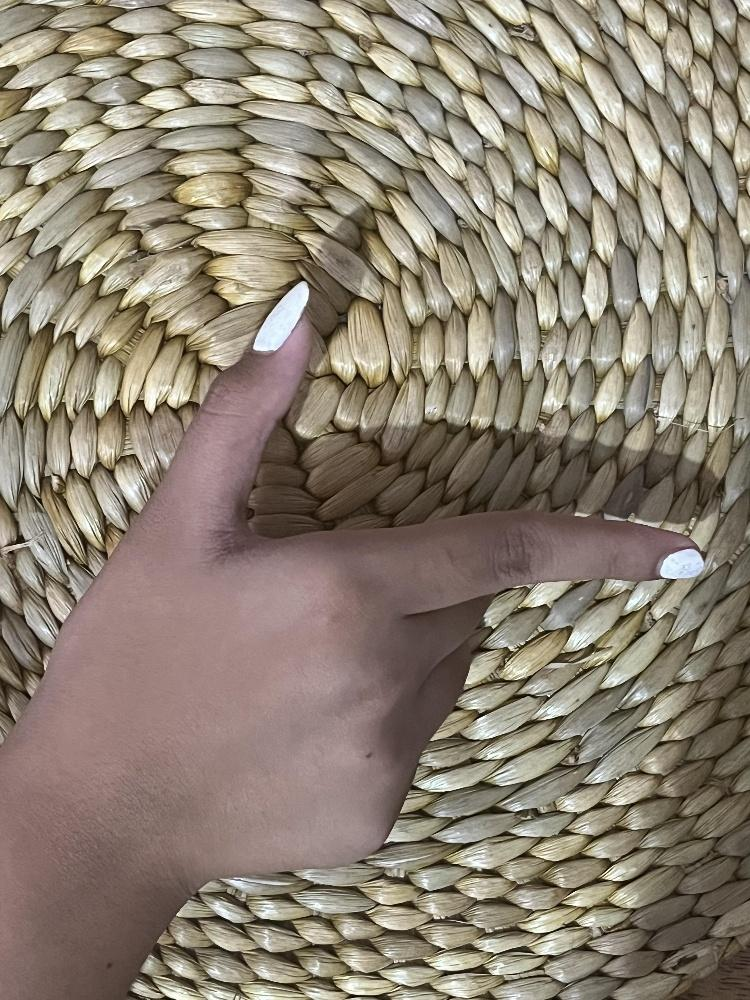g: (44, 281, 702, 880)
